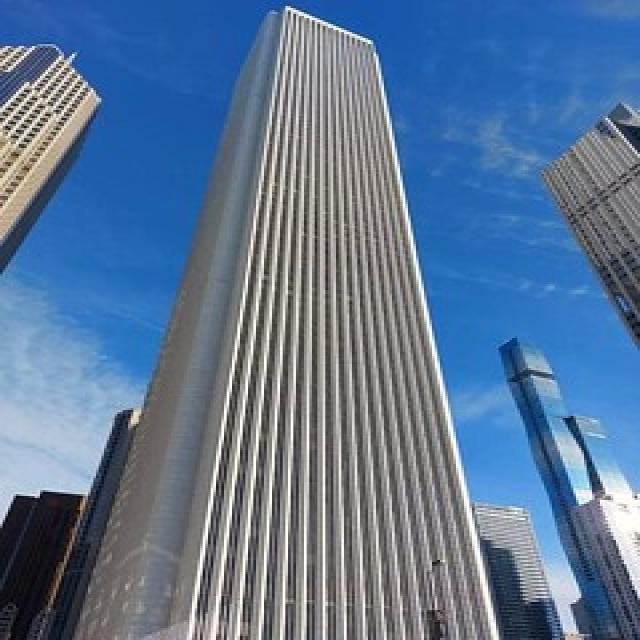Normal_building: (70, 0, 510, 640)
